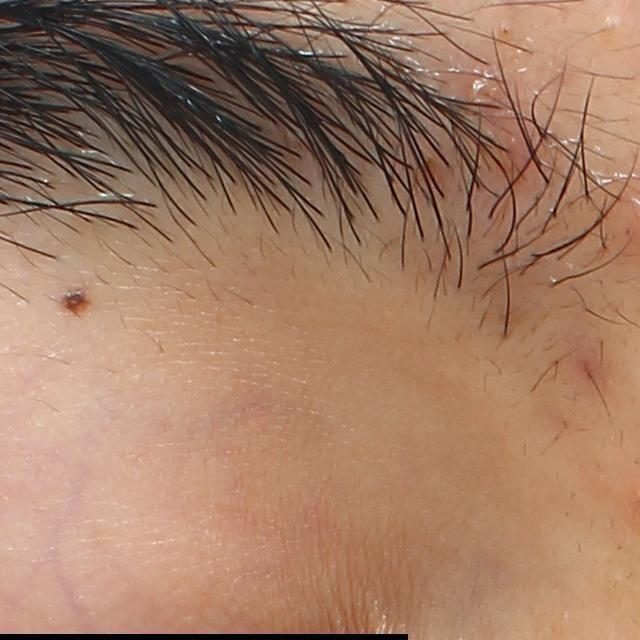comedo: (593, 10, 627, 41)
nevus: (58, 279, 89, 315)
